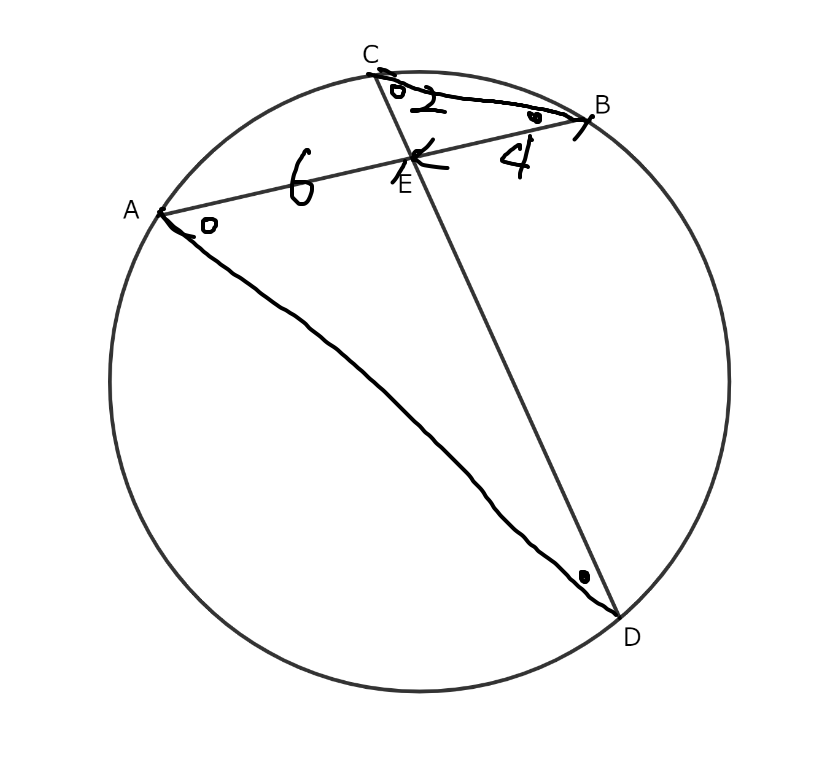Angle_Point: (524, 107, 553, 133), (575, 561, 598, 589)
Angle_o: (190, 213, 226, 241), (385, 78, 410, 112)
